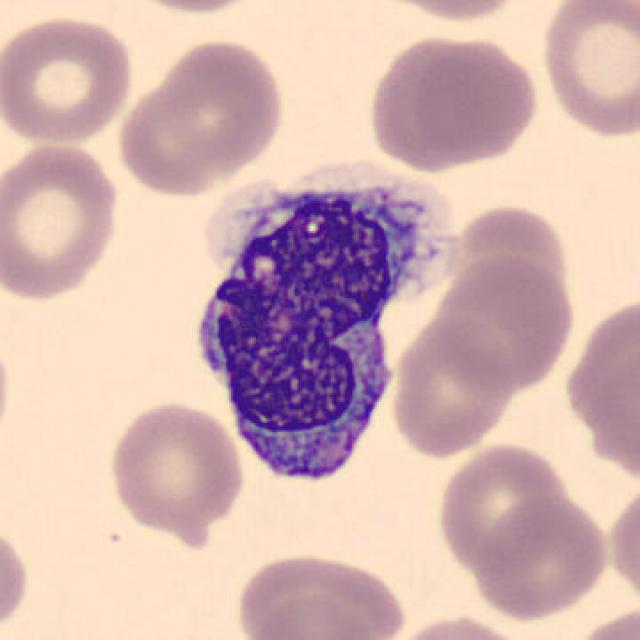Monocyte: (180, 150, 442, 501)
RBC: (112, 34, 290, 199), (432, 251, 578, 394), (103, 396, 247, 540), (0, 138, 123, 305), (366, 32, 503, 175), (0, 11, 139, 148), (386, 314, 516, 460), (434, 439, 570, 578), (471, 492, 612, 622), (233, 548, 407, 640), (416, 38, 536, 160), (537, 0, 638, 141), (567, 296, 640, 478), (242, 590, 384, 640), (606, 478, 640, 614), (359, 0, 533, 25), (384, 612, 533, 640), (0, 518, 30, 638), (569, 601, 640, 640), (110, 0, 272, 16), (0, 319, 16, 464)
